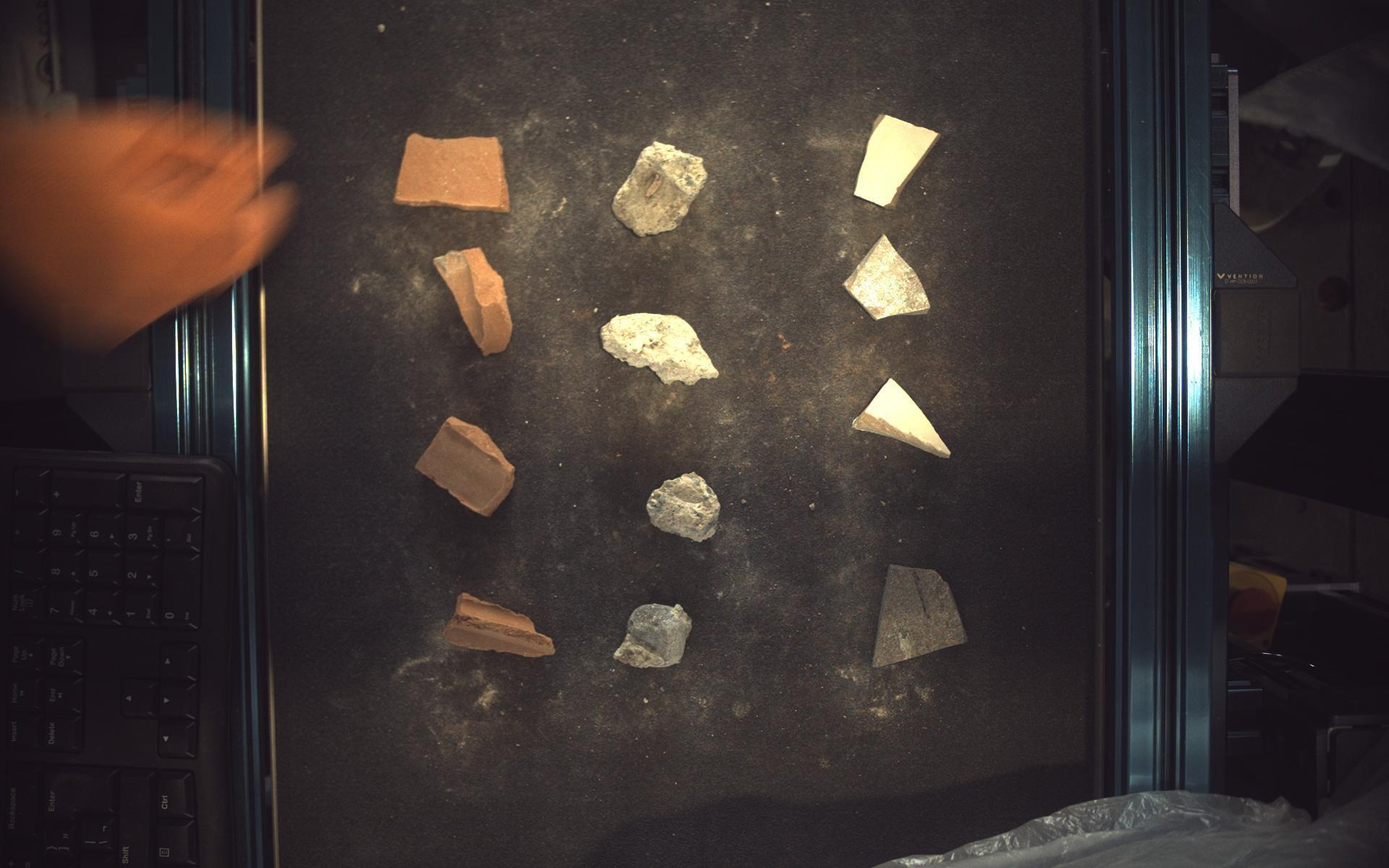brick: (416, 417, 515, 517), (394, 132, 510, 211), (433, 247, 512, 355), (443, 594, 556, 658)
concrete: (613, 140, 708, 236), (602, 312, 720, 385), (647, 472, 722, 542), (615, 605, 693, 669)
tile: (875, 565, 969, 668), (856, 113, 942, 206), (854, 378, 953, 458), (845, 234, 933, 320)
